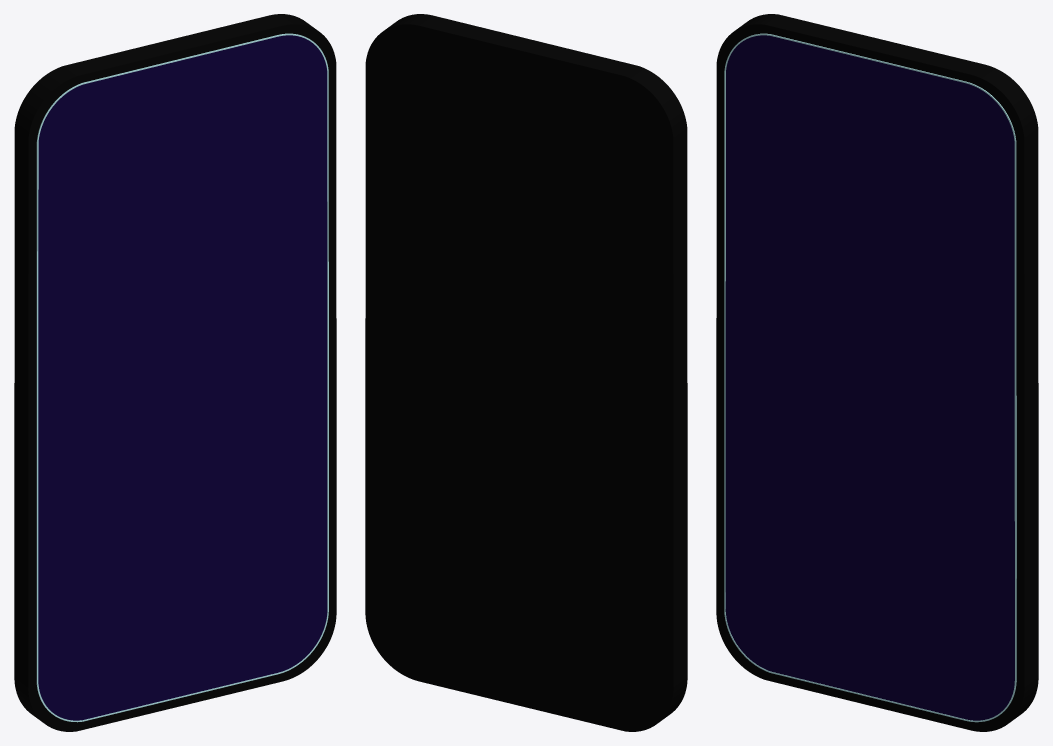
File: Mita_phone.glb
3 renders of one model, left to right at view 1: azimuth 30°, elevation 25°; view 2: azimuth 150°, elevation 25°; view 3: azimuth 330°, elevation 25°, orthographic.
Parts seen in each view (by area): view 1: Cylinder.004, Cylinder.003, Cylinder.005; view 2: Cylinder.003; view 3: Cylinder.004, Cylinder.003, Cylinder.005.
Part boxes in pixels (x1=…): Cylinder.004: x1=38, y1=35, x2=327, y2=720; Cylinder.003: x1=14, y1=14, x2=336, y2=731; Cylinder.005: x1=36, y1=33, x2=328, y2=722; Cylinder.003: x1=365, y1=14, x2=687, y2=731; Cylinder.004: x1=725, y1=35, x2=1014, y2=720; Cylinder.003: x1=716, y1=14, x2=1038, y2=731; Cylinder.005: x1=724, y1=33, x2=1016, y2=722.
Size of the model in its own units: 2.36 by 4.79 by 0.1902.
